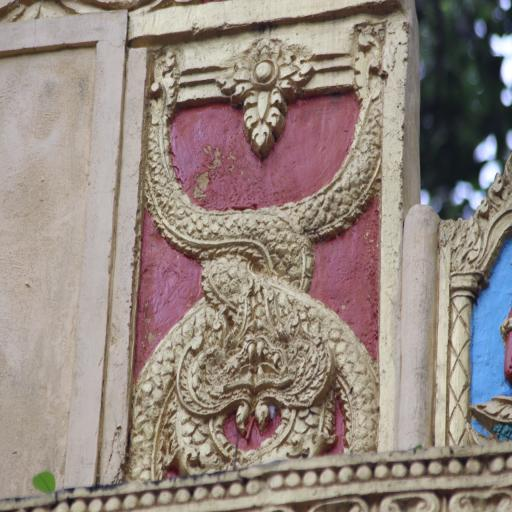la: (235, 32, 300, 150)
ran: (175, 332, 254, 476), (252, 334, 334, 460)
